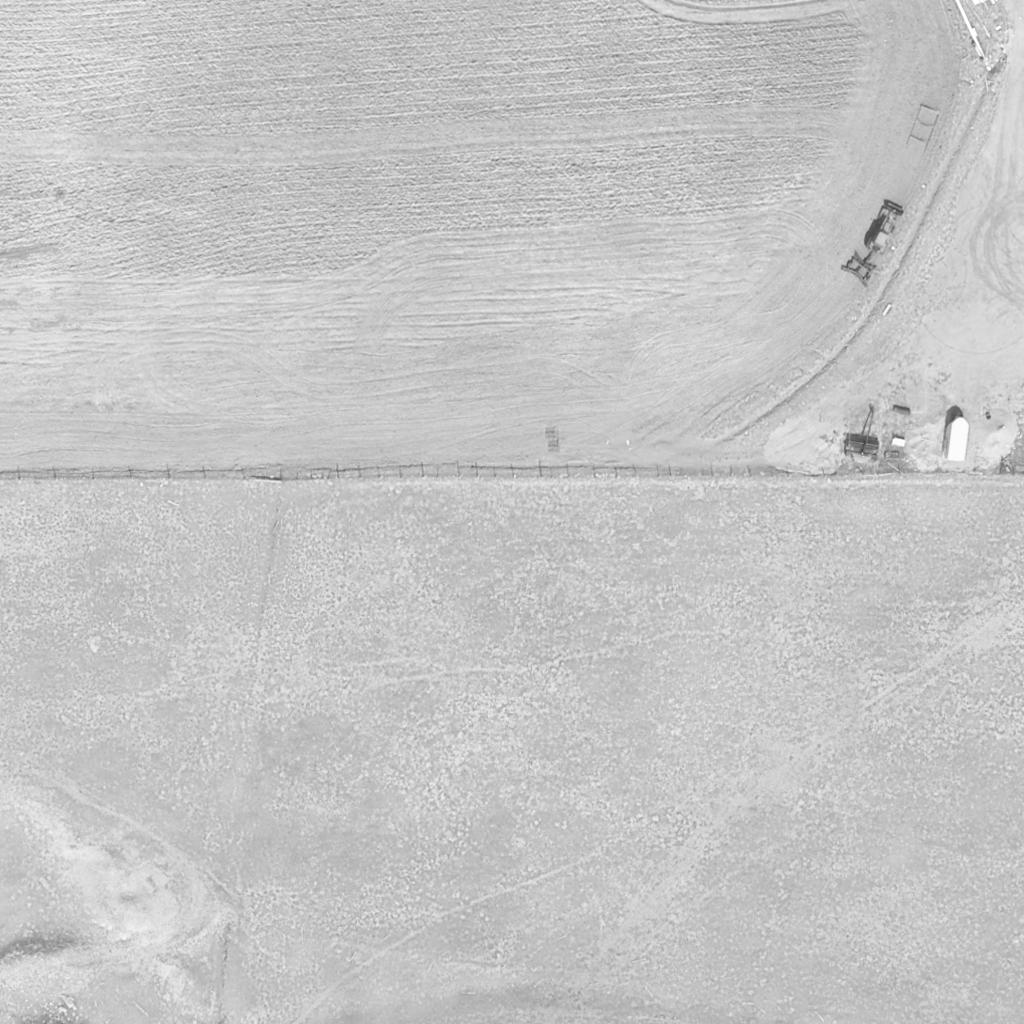vehicle: (861, 215, 901, 257), (940, 416, 972, 468)
